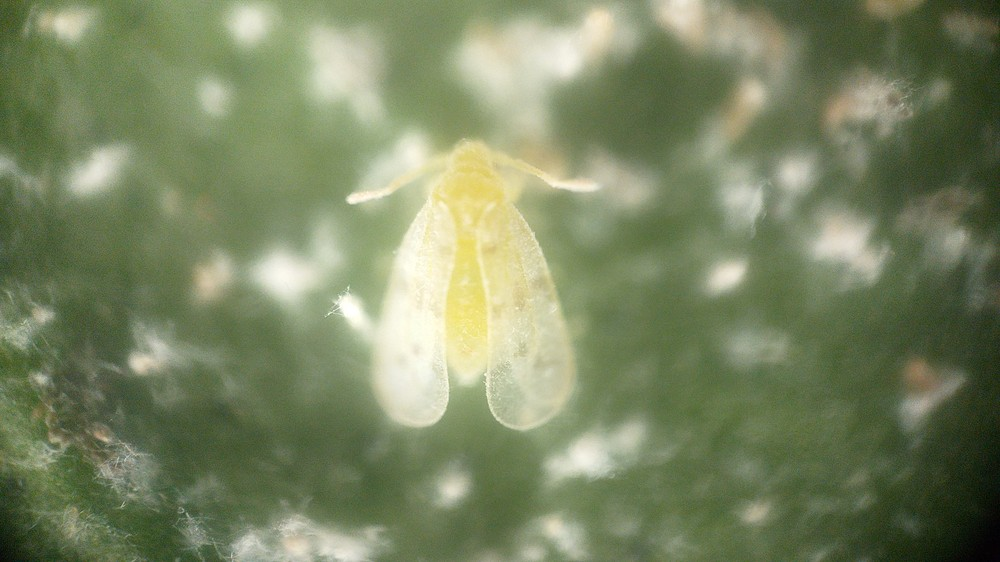Mosca Blanca: (327, 127, 619, 446)
